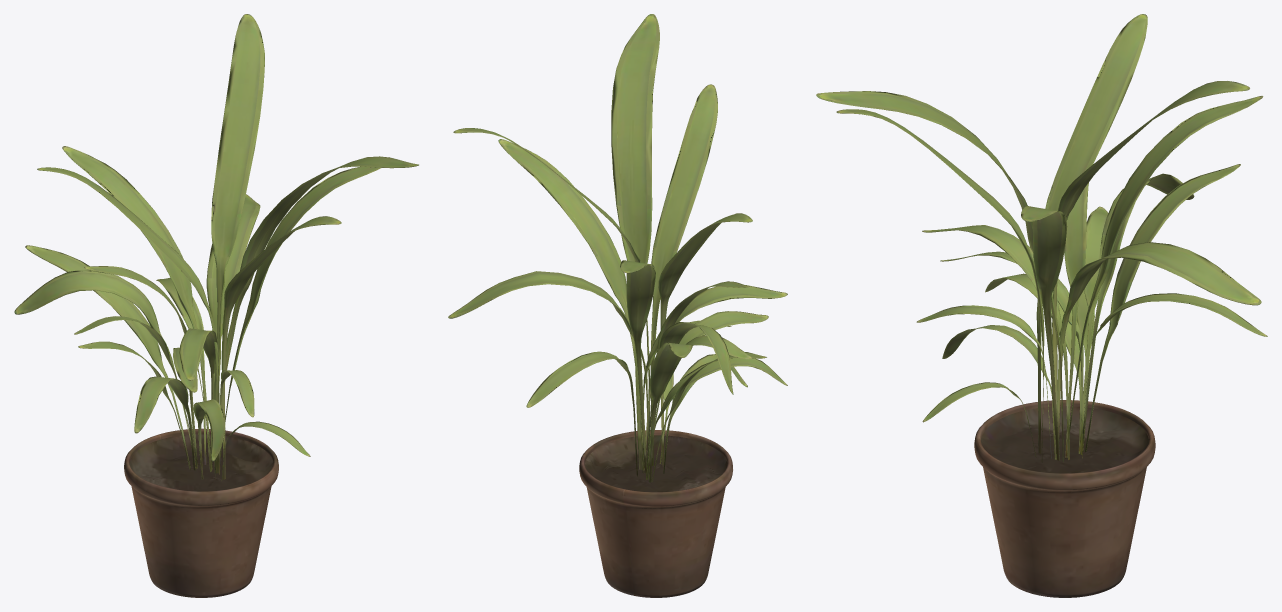
Rendered from potted_plant_04.glb.
3 renders of one model, left to right at view 1: azimuth 30°, elevation 25°; view 2: azimuth 150°, elevation 25°; view 3: azimuth 270°, elevation 25°, orthographic. The views are drawn at different scales.
Parts seen in each view (by area): view 1: Pflanze_Pflanzenmaterial_0; view 2: Pflanze_Pflanzenmaterial_0; view 3: Pflanze_Pflanzenmaterial_0.
Part boxes in pixels (left/top/right/bottom): Pflanze_Pflanzenmaterial_0: left=14, top=14, right=418, bottom=597; Pflanze_Pflanzenmaterial_0: left=448, top=14, right=787, bottom=597; Pflanze_Pflanzenmaterial_0: left=816, top=14, right=1267, bottom=597.
Size of the model in its own units: 172 by 254 by 187.
1 material, 1 textured.
